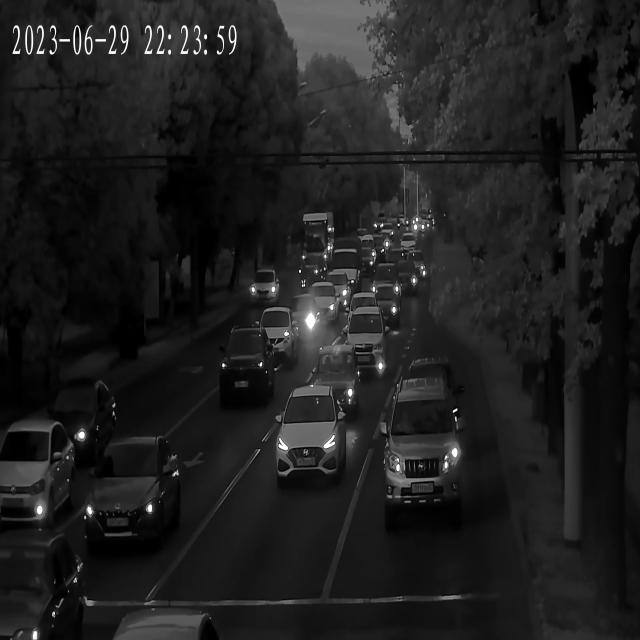Bus: (300, 210, 334, 272)
Car: (82, 437, 184, 552), (376, 384, 466, 512), (0, 422, 75, 536), (0, 534, 78, 636), (276, 386, 350, 488), (48, 383, 124, 468), (210, 329, 280, 403), (101, 608, 226, 640), (307, 352, 361, 421), (334, 312, 392, 371), (397, 357, 462, 408), (248, 310, 301, 369), (264, 298, 320, 348), (344, 289, 393, 332), (297, 282, 345, 324), (374, 264, 418, 301), (366, 279, 404, 321), (339, 237, 377, 270), (314, 272, 353, 304), (250, 271, 283, 306), (407, 249, 426, 281), (368, 236, 385, 264), (401, 233, 416, 255), (380, 223, 394, 242)
